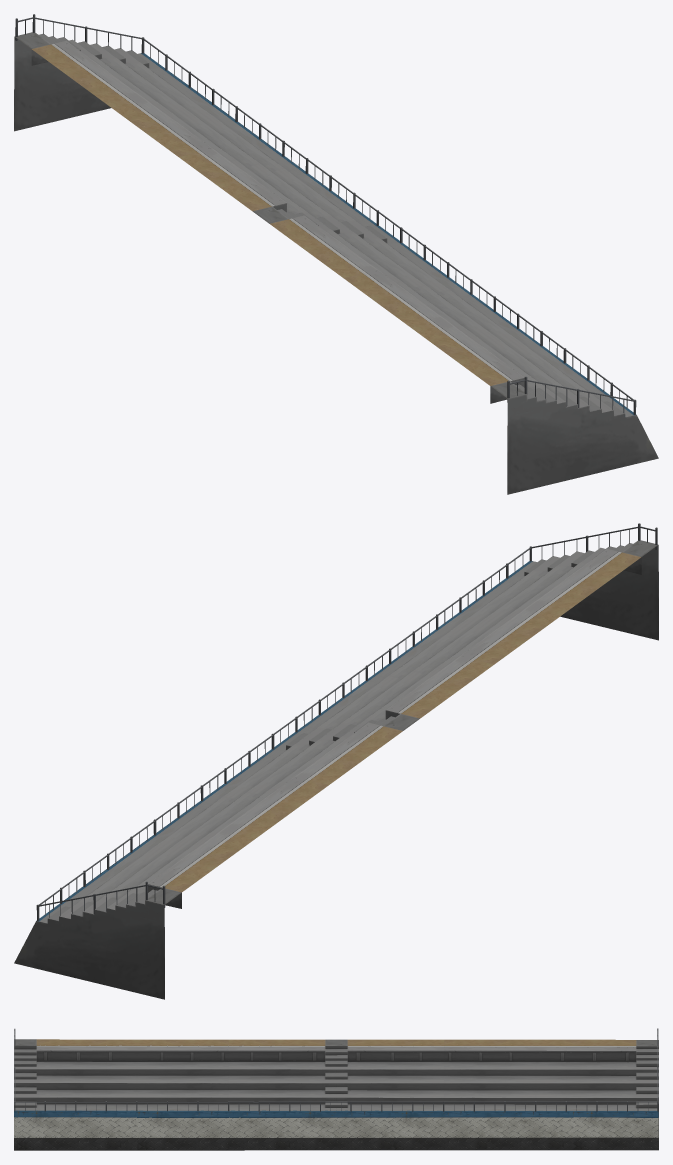
File: Maihan_Guanzhongxi_02.FBX
The picture shows the model from 3 angles, top to bottom: view 1: azimuth 30°, elevation 25°; view 2: azimuth 150°, elevation 25°; view 3: azimuth 270°, elevation 25°; orthographic projection. The views are drawn at different scales.
Parts seen in each view (by area): view 1: Maihan_Guanzhongxi_02; view 2: Maihan_Guanzhongxi_02; view 3: Maihan_Guanzhongxi_02.
Boxes of the visible parts, bbox=[...] form: Maihan_Guanzhongxi_02: bbox=[14, 14, 658, 494]; Maihan_Guanzhongxi_02: bbox=[14, 523, 658, 999]; Maihan_Guanzhongxi_02: bbox=[14, 1028, 658, 1150].
Bounding box in the file's own units: 994 × 713 × 5572.
